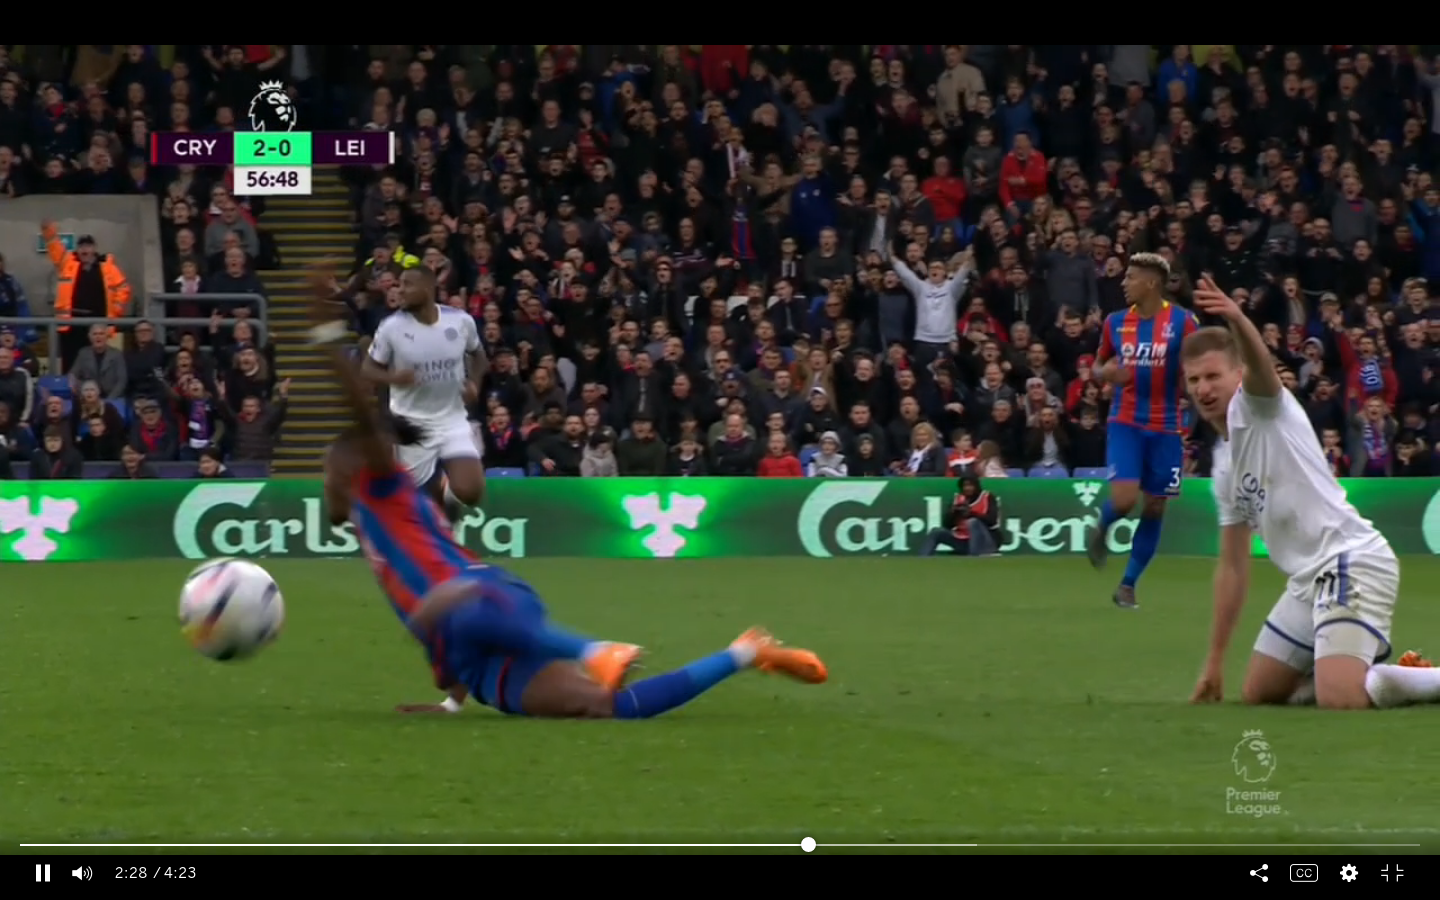soccer player: (321, 400, 825, 731), (1193, 316, 1407, 719), (1082, 245, 1218, 616), (372, 263, 495, 516)
soccerball: (178, 562, 287, 668)
